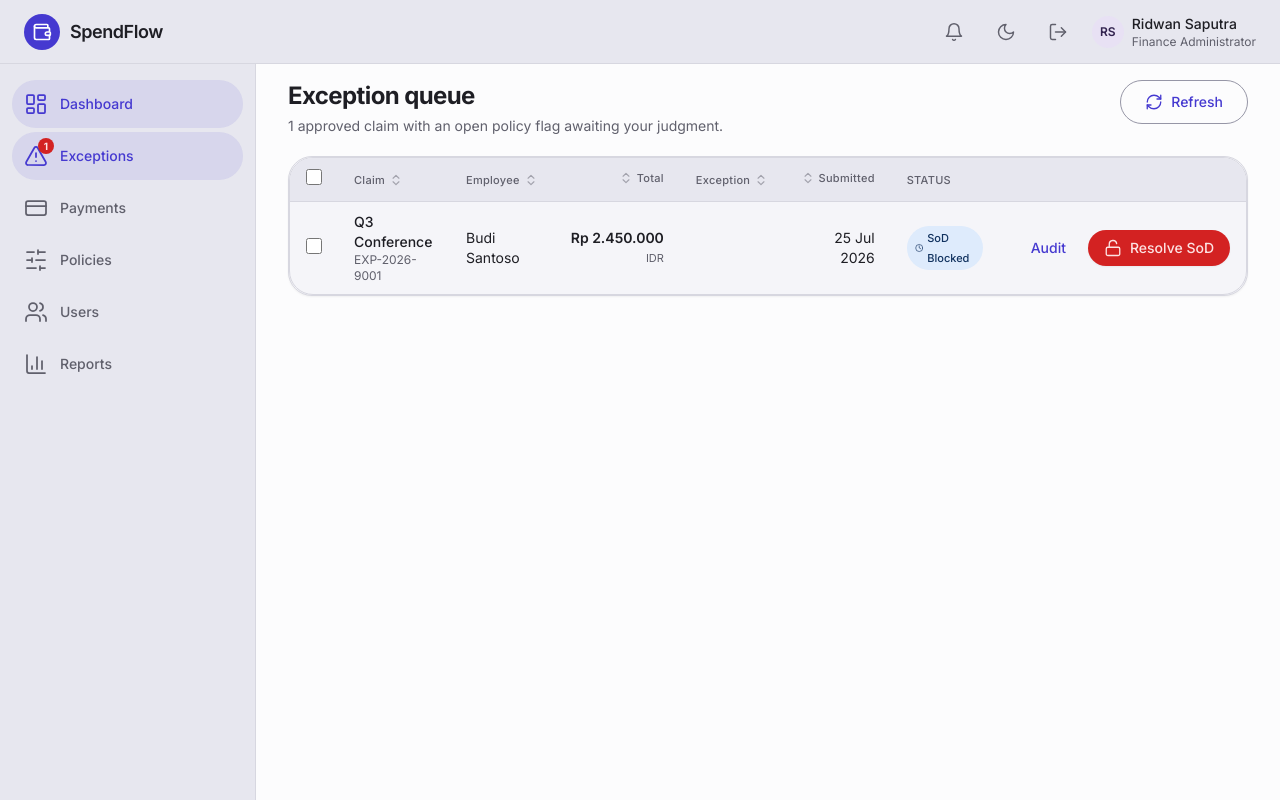
it: Exception queue — Resolve SoD action › keeps Resolve & re-route disabled until a manager + 10+ char resolution + password are present
Expected: the text "Q3 Conference" is shown, [354,212,434,252]
Click the button "Resolve SoD" at (1159, 248), box [1088,230,1230,266]
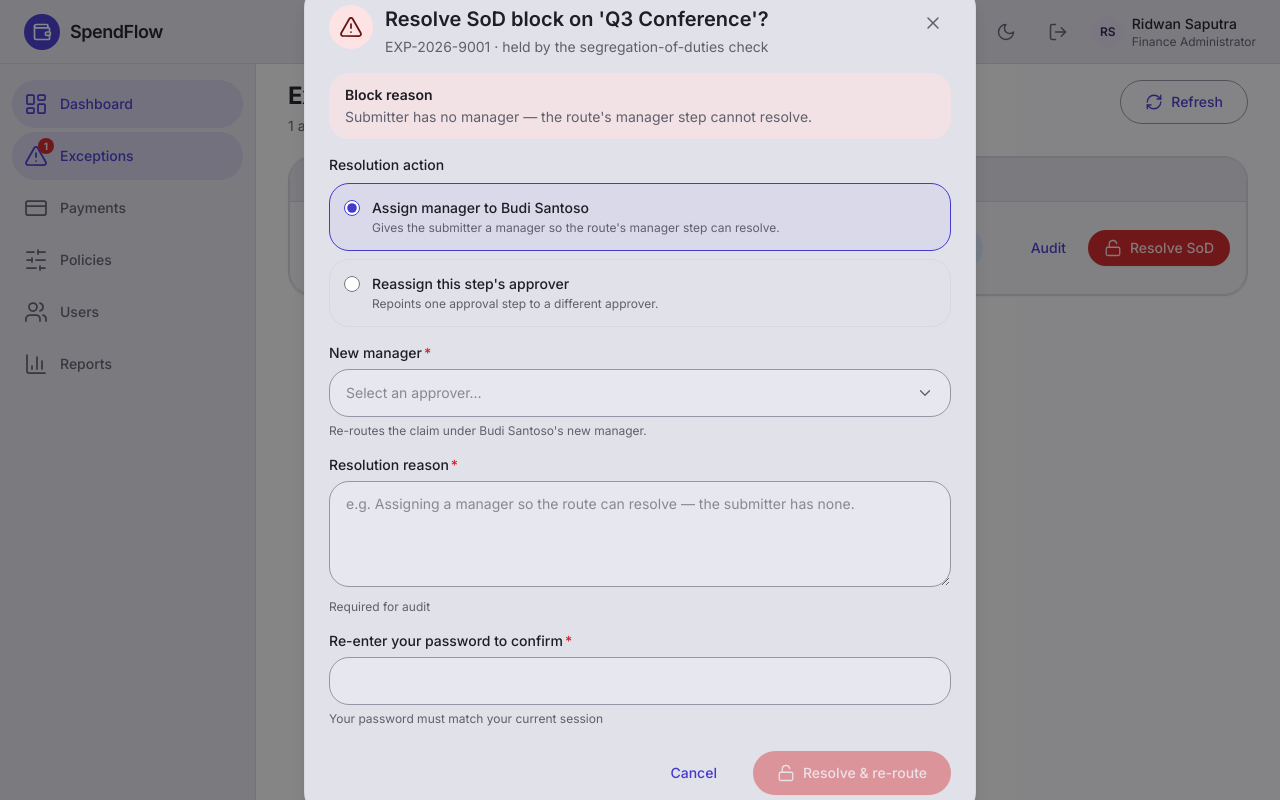
Expected: the button "Resolve & re-route" is disabled, [753,751,951,795]
Replace the text in the text box labelled "Resolution reason*" with "Too short" at (640, 534), box [329,481,951,587]
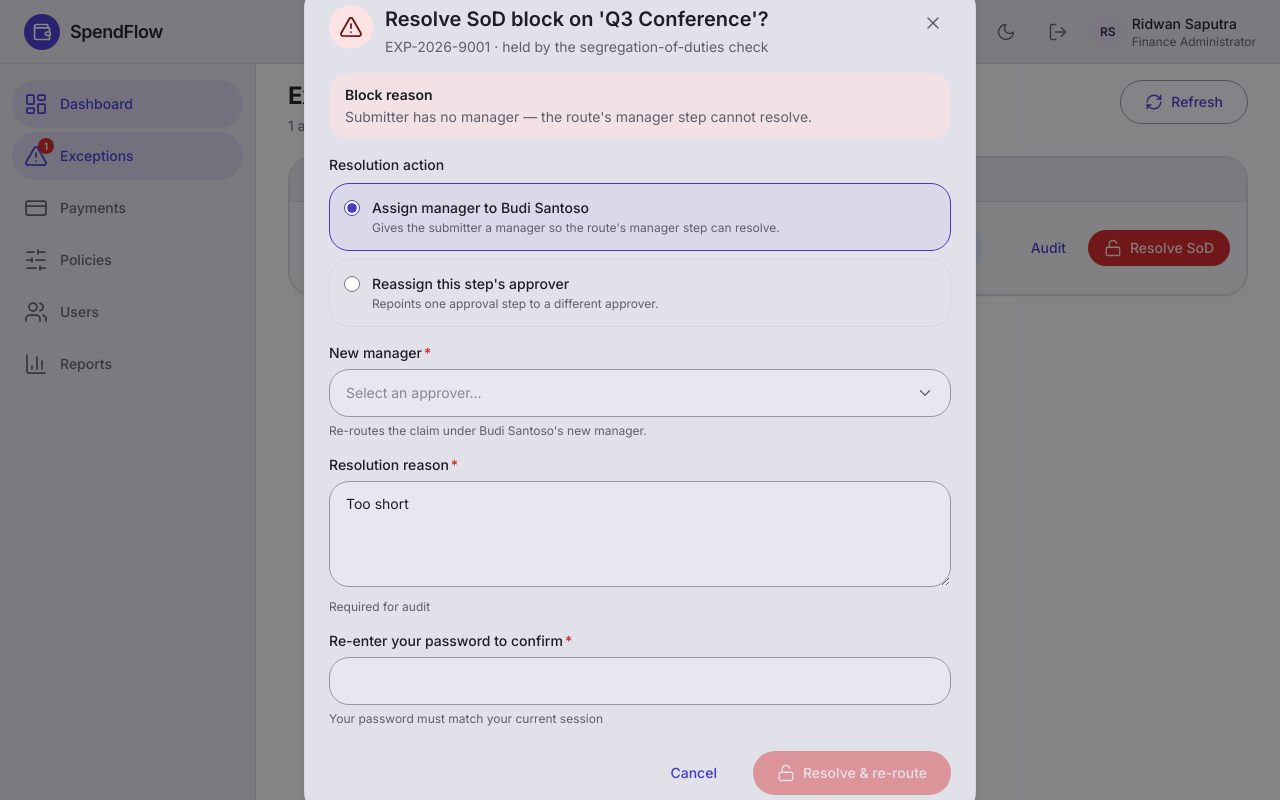
Expected: the button "Resolve & re-route" is disabled, [753,751,951,795]
Replace the text in the text box labelled "Resolution reason*" with "Assigning a manager to the submitter" at (640, 534), box [329,481,951,587]
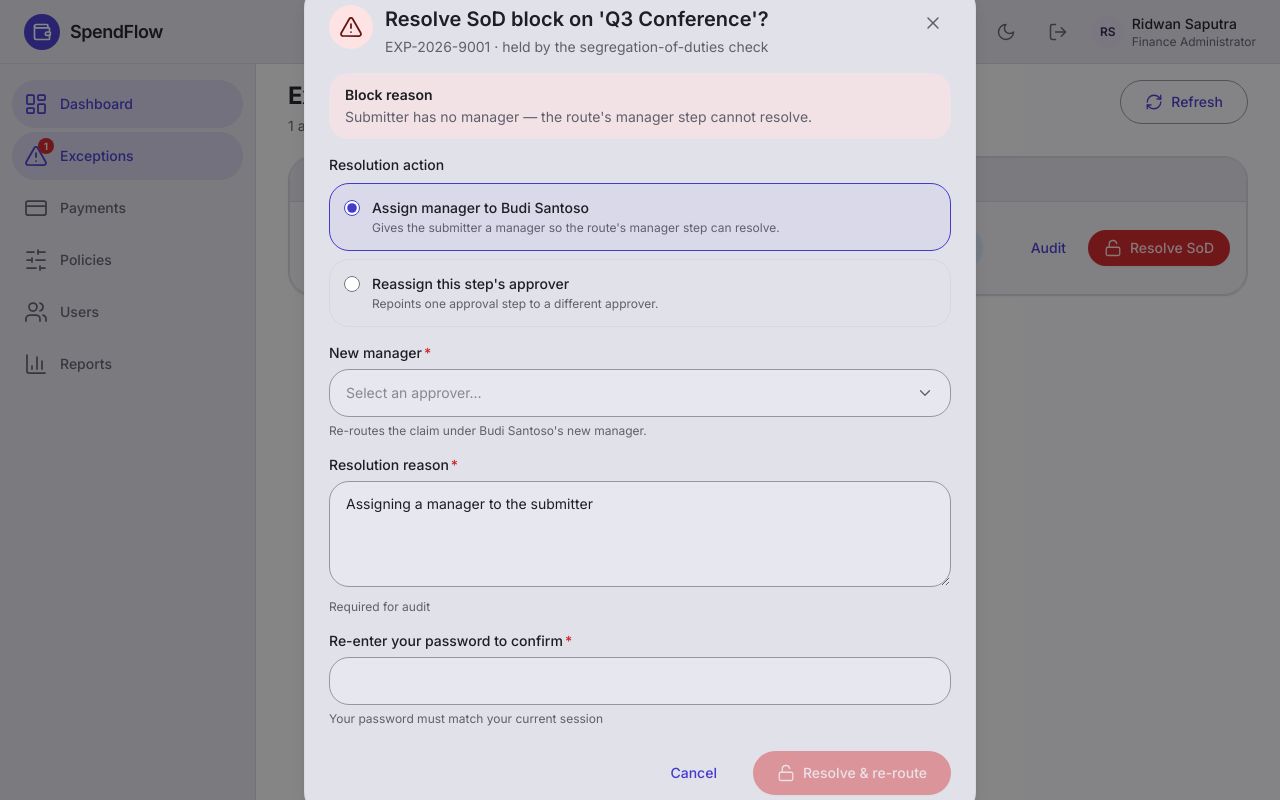
Expected: the button "Resolve & re-route" is disabled, [753,751,951,795]
Click the button named "new manager" at (414, 392), box [329,369,951,417]
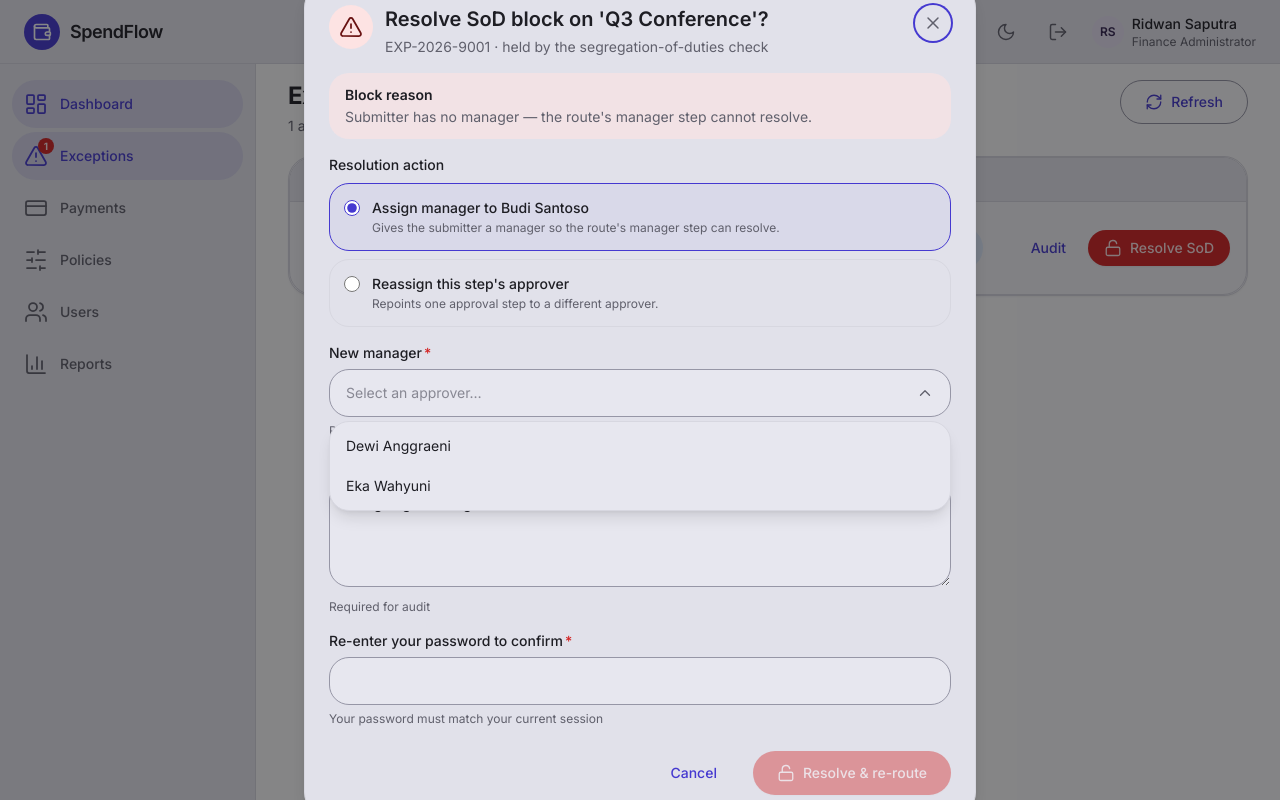
Click the button "Dewi Anggraeni" at (398, 446), box [334,426,946,466]
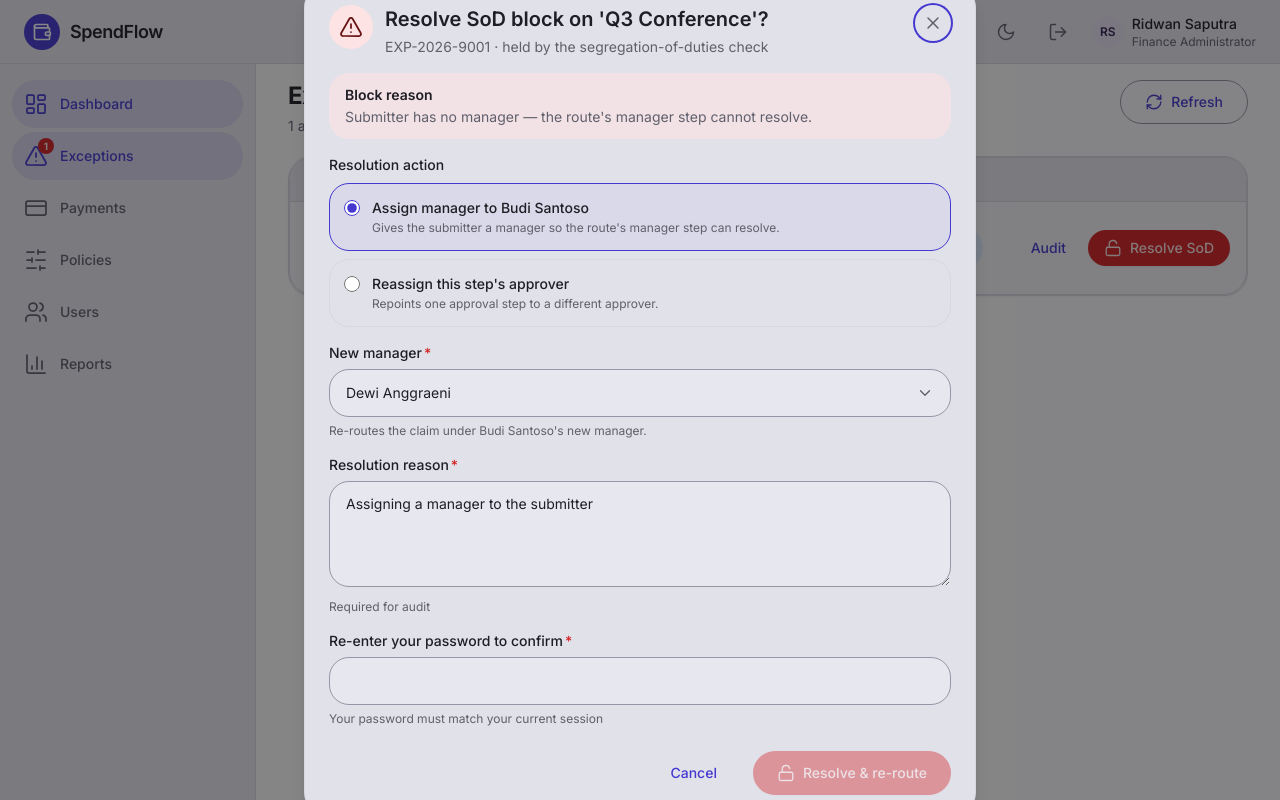
Expected: the button "Resolve & re-route" is disabled, [753,751,951,795]
Type "demo1234" into the password field labelled "Re-enter your password to confirm*" at (640, 681), box [329,657,951,705]
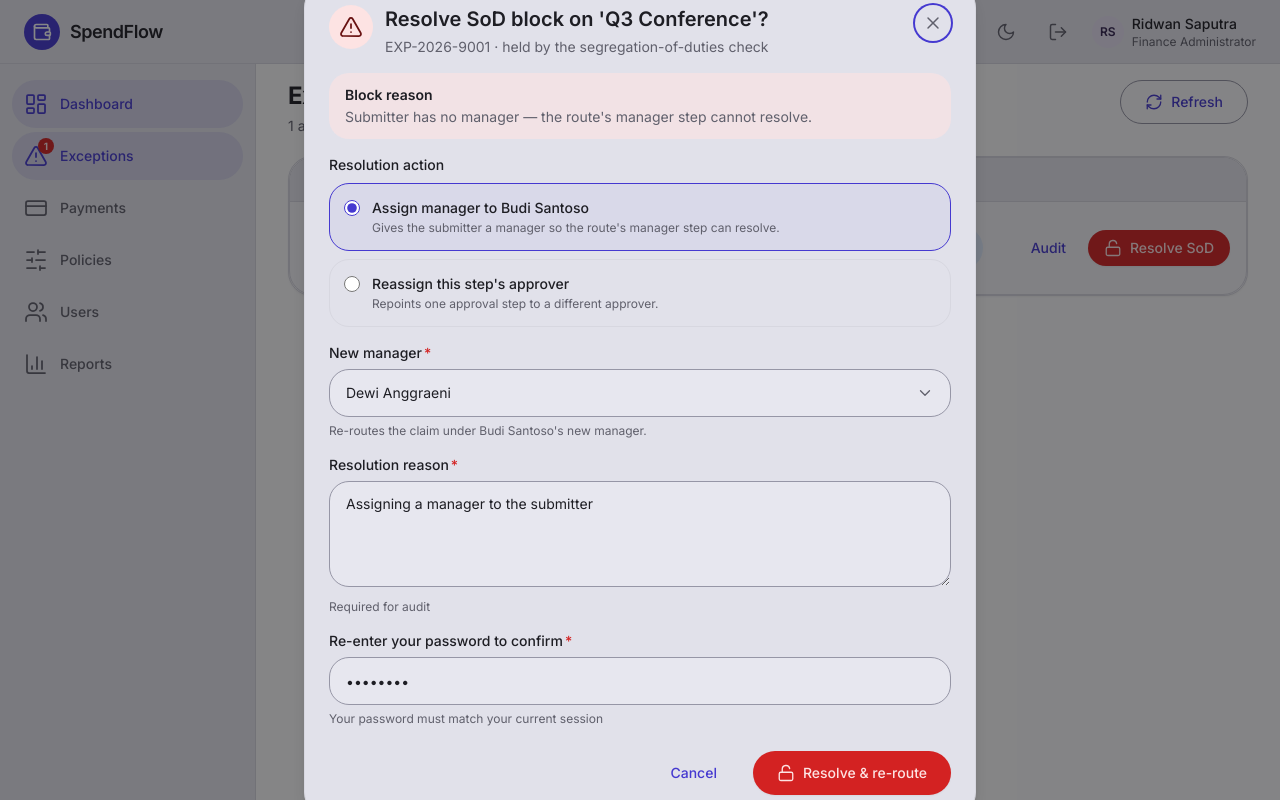
Expected: the button "Resolve & re-route" is enabled, [753,751,951,795]
